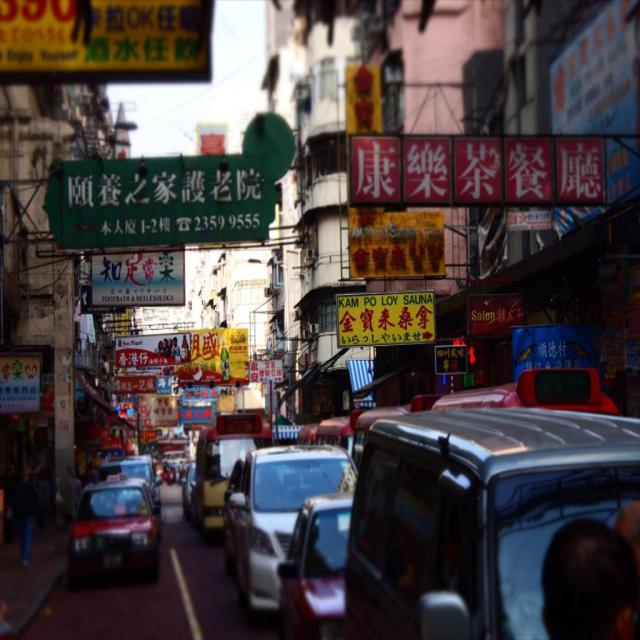car: (65, 478, 157, 581)
